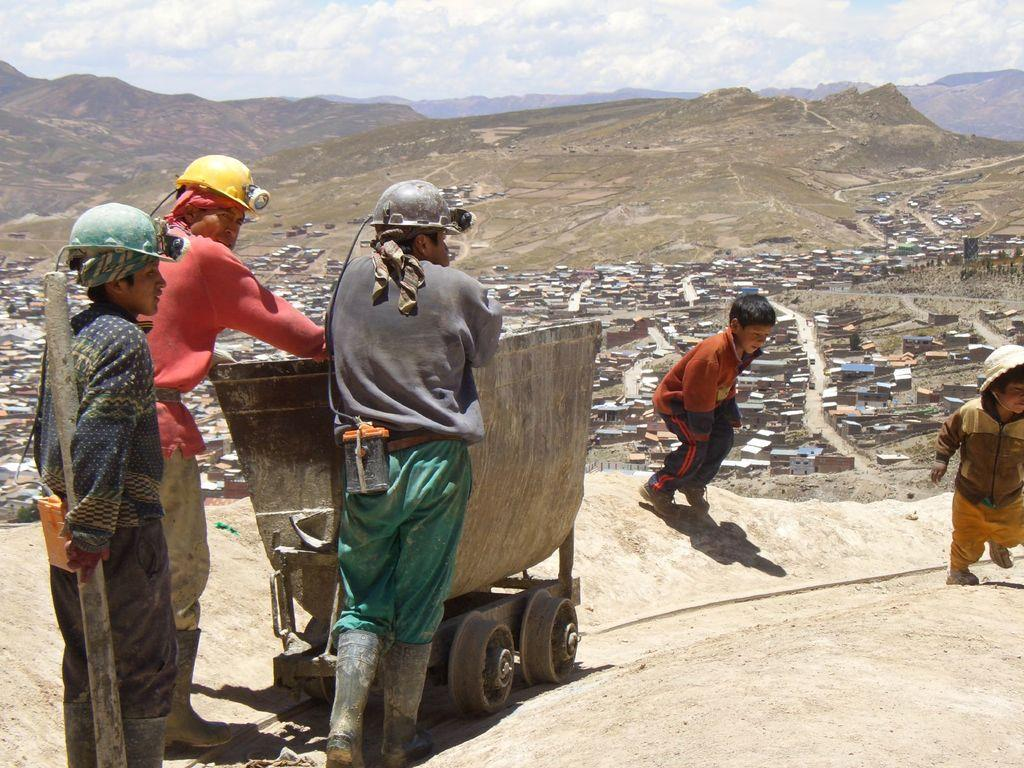helmet: (64, 202, 177, 315), (369, 180, 461, 268), (175, 154, 257, 251)
nohelmet: (977, 343, 1024, 416), (728, 293, 777, 356)
